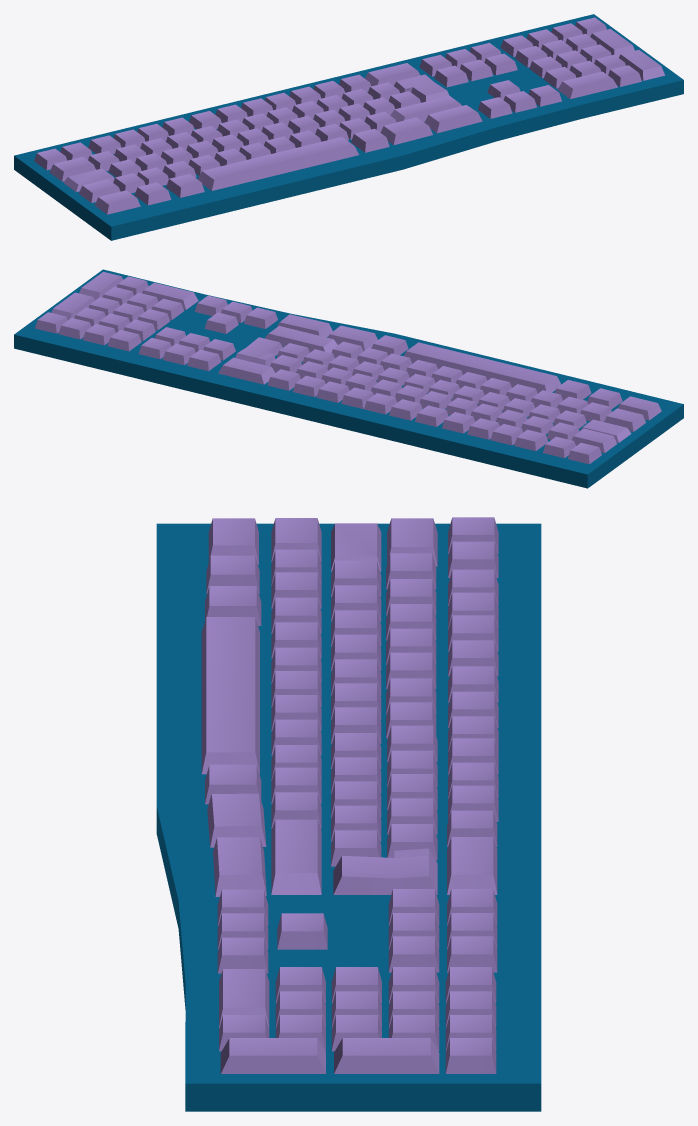
Rendered from NewKeyboard.fbx.
3 renders of one model, top to bottom at view 1: azimuth 30°, elevation 25°; view 2: azimuth 150°, elevation 25°; view 3: azimuth 270°, elevation 25°, orthographic. The views are drawn at different scales.
Parts seen in each view (by area): view 1: Keyboard; view 2: Keyboard; view 3: Keyboard.
Boxes of the visible parts, x1,y1,x2,y2 form: Keyboard: [14, 14, 683, 240]; Keyboard: [14, 269, 683, 488]; Keyboard: [156, 517, 541, 1111].
Bounding box in the file's own units: 1143 × 44.14 × 332.
